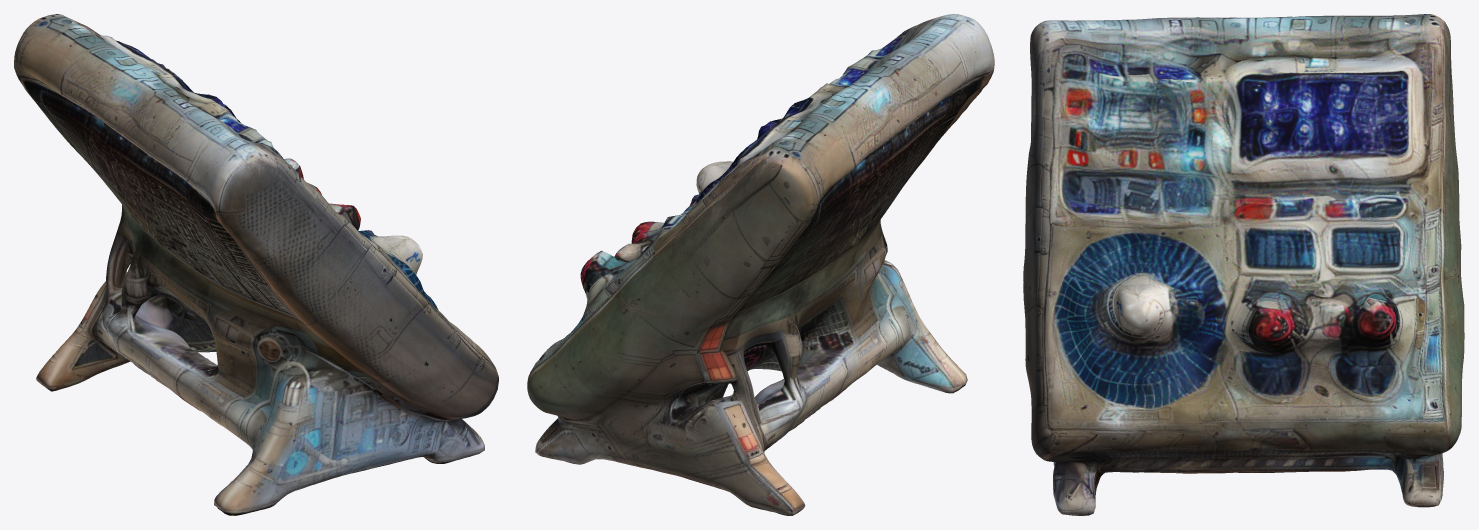
The model's file is A_1970s_sci_fi_contro_0907202730_refine.glb.
The picture shows the model from 3 angles, left to right: view 1: azimuth 30°, elevation 25°; view 2: azimuth 150°, elevation 25°; view 3: azimuth 270°, elevation 25°; orthographic projection. The views are drawn at different scales.
Size of the model in its own units: 0.9512 by 1.13 by 1.2.
1 material, 1 textured.
